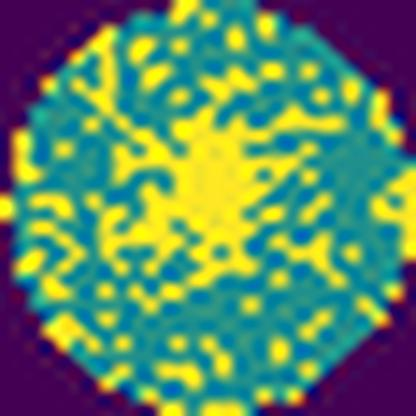Center: (100, 61, 352, 291)
